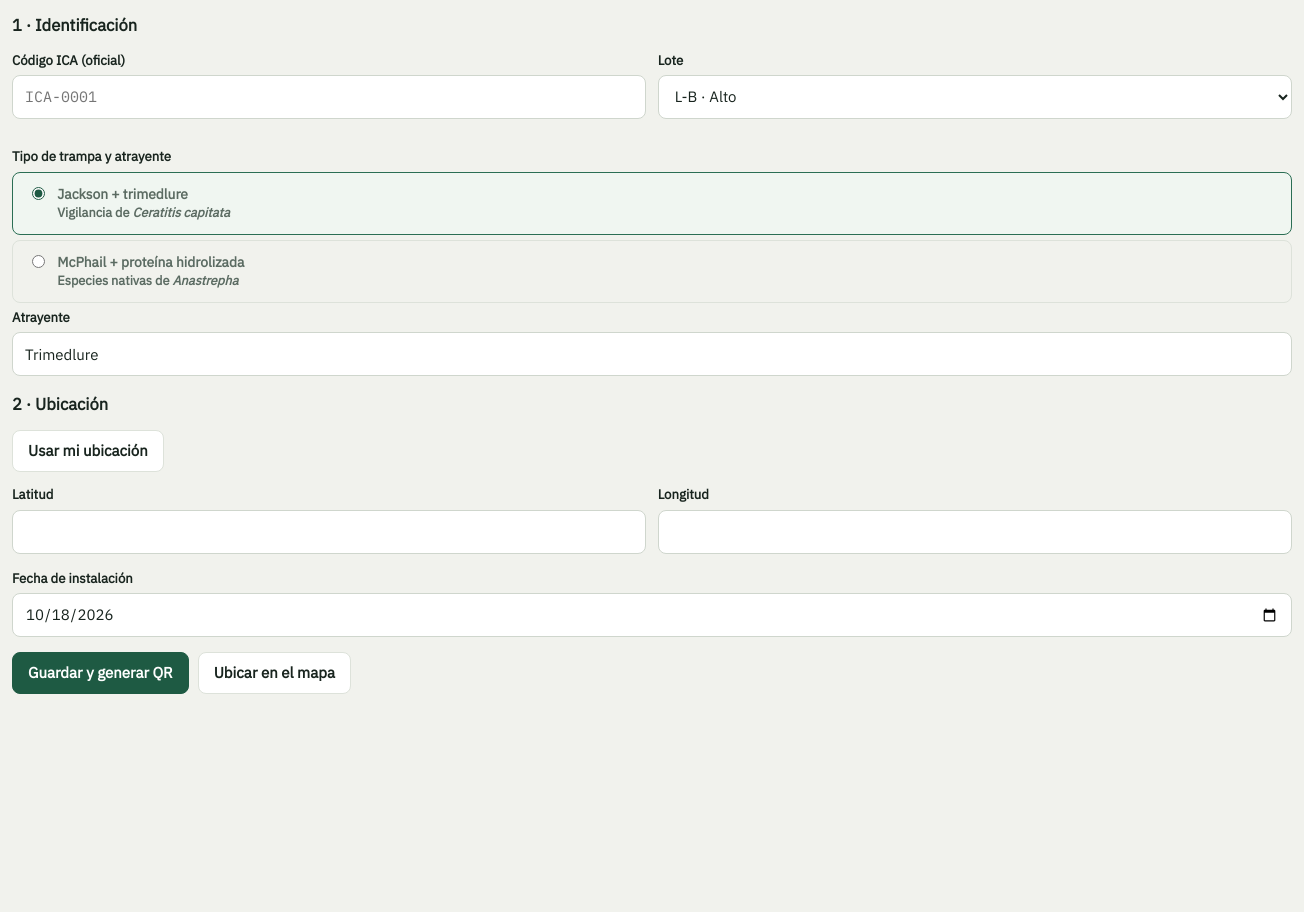
Test: FormularioTrampa › muestra el error del GPS
Click the button "Usar mi ubicación".
click(88, 451)  # box [12,430,164,472]
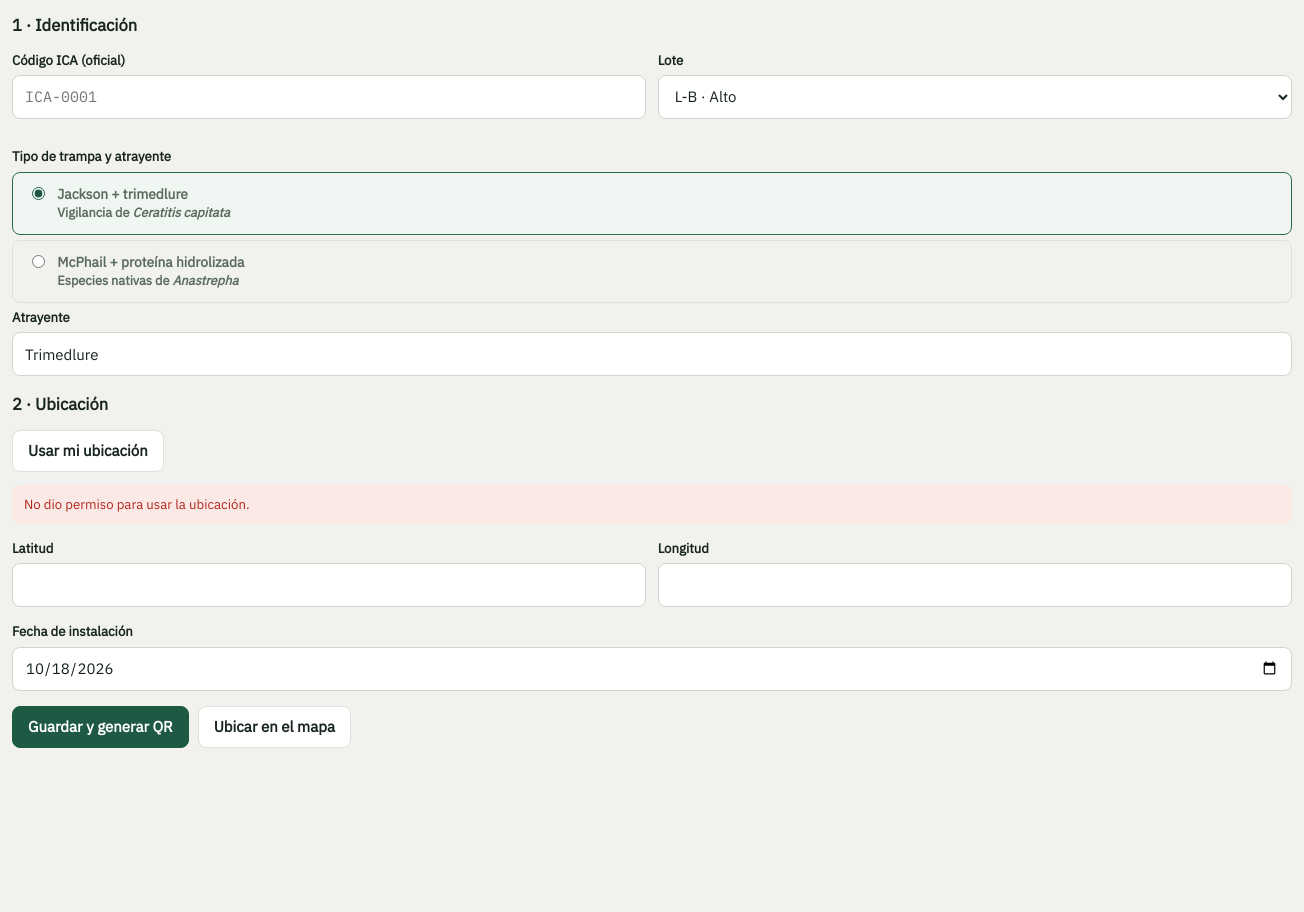
Expected: the message shows "No dio permiso", [24,495,250,513]
